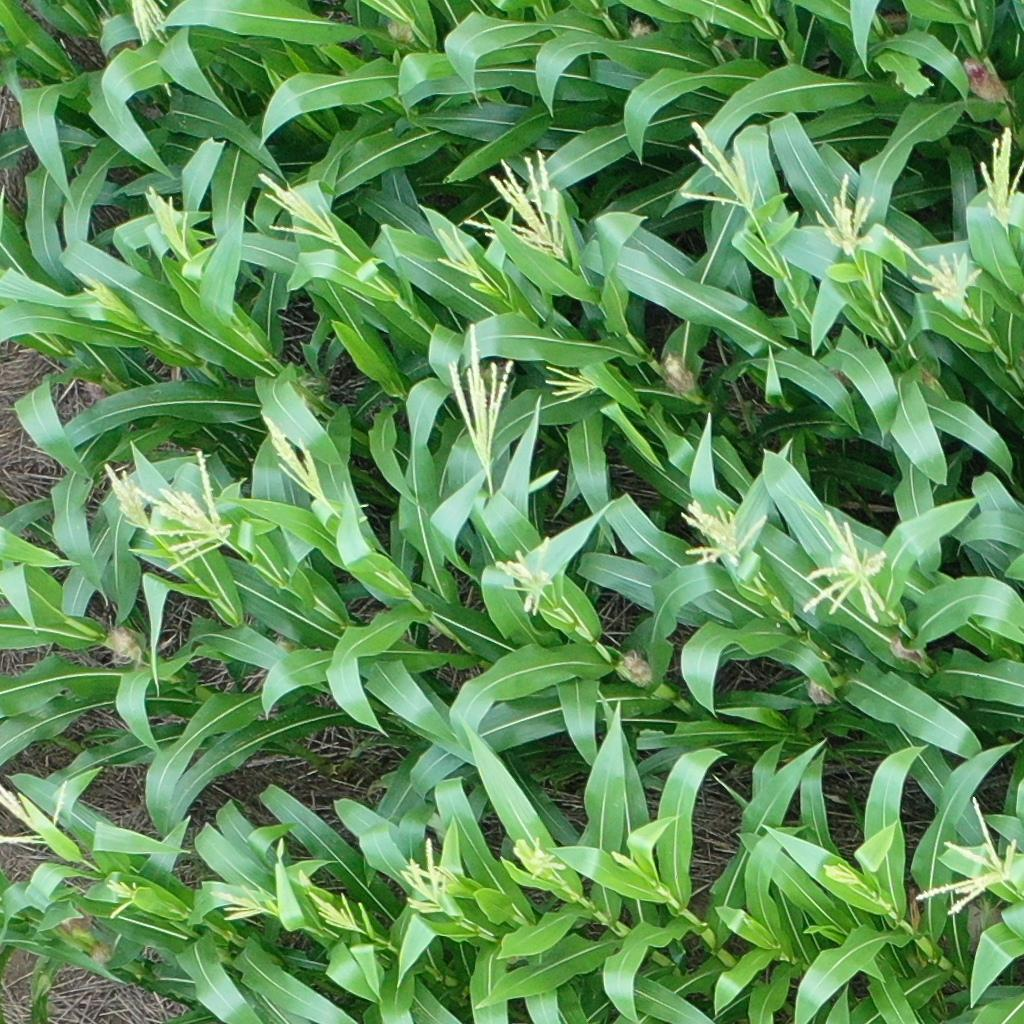Tassel: (915, 787, 1020, 921), (135, 451, 238, 572), (792, 501, 890, 628), (467, 146, 576, 259), (440, 329, 515, 470), (886, 231, 984, 318), (677, 117, 759, 213), (258, 164, 343, 252), (678, 494, 771, 567), (262, 411, 330, 509), (812, 172, 882, 267), (495, 534, 564, 619), (1, 777, 75, 853), (134, 184, 206, 261), (393, 838, 456, 922), (974, 125, 1024, 228), (204, 877, 277, 924), (304, 890, 366, 941), (100, 462, 153, 520), (78, 271, 137, 323), (432, 224, 487, 279), (515, 830, 570, 883), (128, 1, 181, 52), (542, 364, 603, 401), (101, 874, 144, 923), (825, 856, 864, 893)
